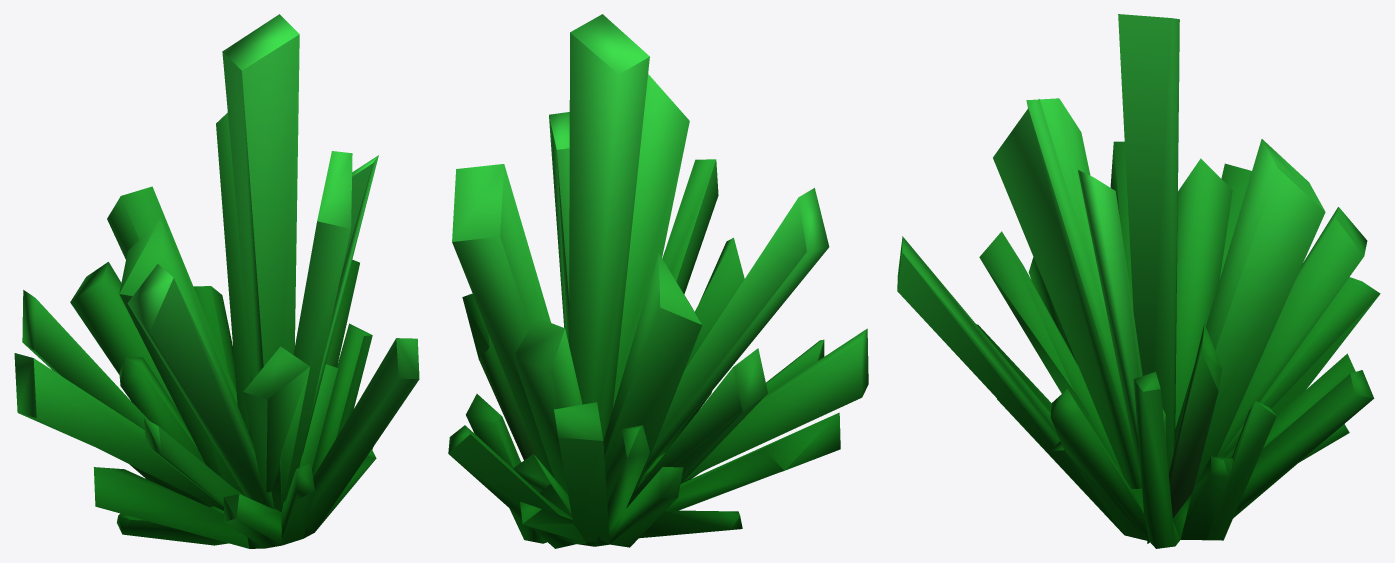
Rendered from ZLP_Crystalk_C_5.FBX.
The picture shows the model from 3 angles, left to right: view 1: azimuth 30°, elevation 25°; view 2: azimuth 150°, elevation 25°; view 3: azimuth 270°, elevation 25°; orthographic projection. The views are drawn at different scales.
Parts seen in each view (by area): view 1: ZLP_Crystalk_C_5; view 2: ZLP_Crystalk_C_5; view 3: ZLP_Crystalk_C_5.
Boxes of the visible parts, bbox=[...] form: ZLP_Crystalk_C_5: bbox=[14, 14, 419, 548]; ZLP_Crystalk_C_5: bbox=[448, 14, 868, 548]; ZLP_Crystalk_C_5: bbox=[897, 14, 1380, 548].
Size of the model in its own units: 240 by 317 by 263.
